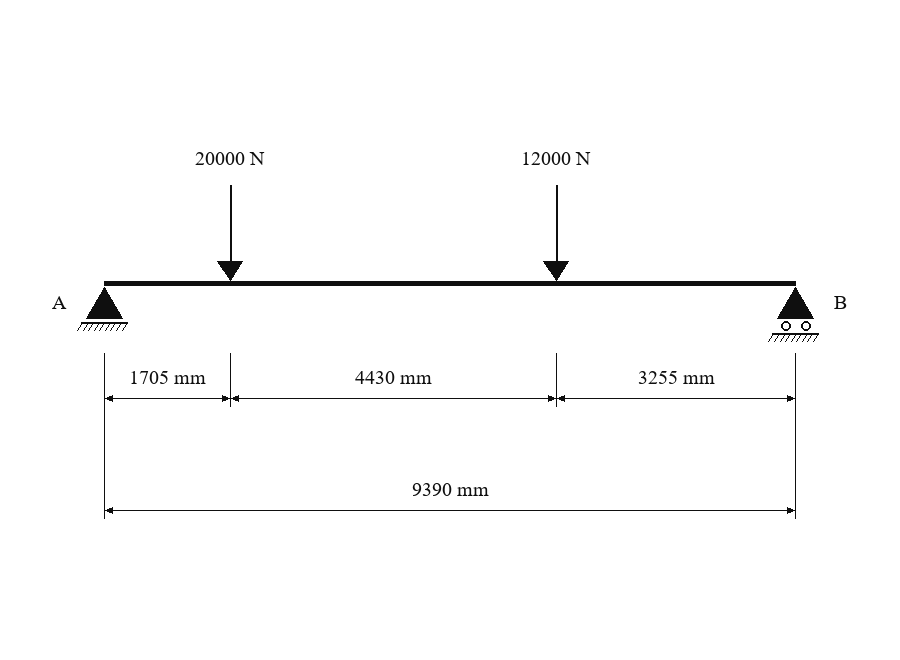pin_support: (77, 287, 128, 331)
point_load: (217, 185, 243, 281), (543, 185, 569, 281)
roller_support: (768, 287, 819, 342)
